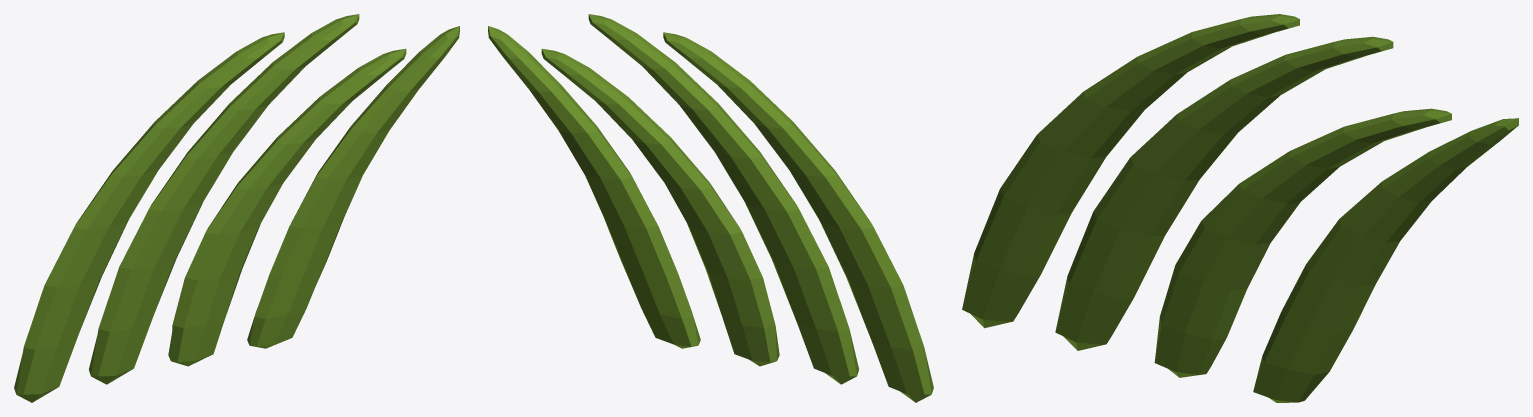
The model's file is Gras3.fbx.
The picture shows the model from 3 angles, left to right: view 1: azimuth 30°, elevation 25°; view 2: azimuth 150°, elevation 25°; view 3: azimuth 330°, elevation 25°; orthographic projection. The views are drawn at different scales.
Parts seen in each view (by area): view 1: Gras3; view 2: Gras3; view 3: Gras3.
Boxes of the visible parts, left/top/right/bottom form: Gras3: left=14, top=14, right=459, bottom=402; Gras3: left=488, top=14, right=933, bottom=402; Gras3: left=962, top=14, right=1518, bottom=402.
Size of the model in its own units: 113 by 76.12 by 5.87.
